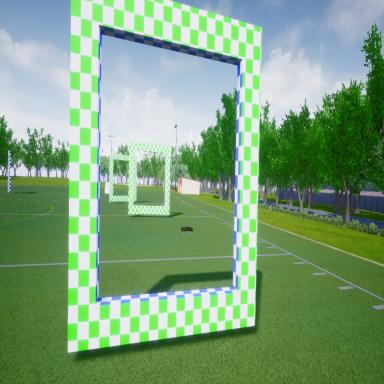gate: (66, 0, 264, 357), (127, 135, 173, 220)
